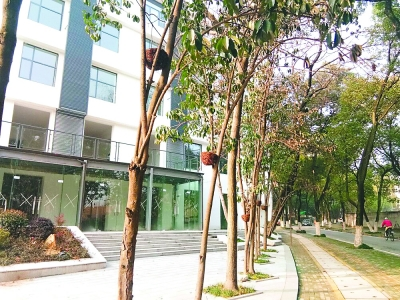bird-nest: (143, 48, 169, 72), (201, 149, 218, 166), (255, 200, 269, 211), (240, 213, 252, 224)
